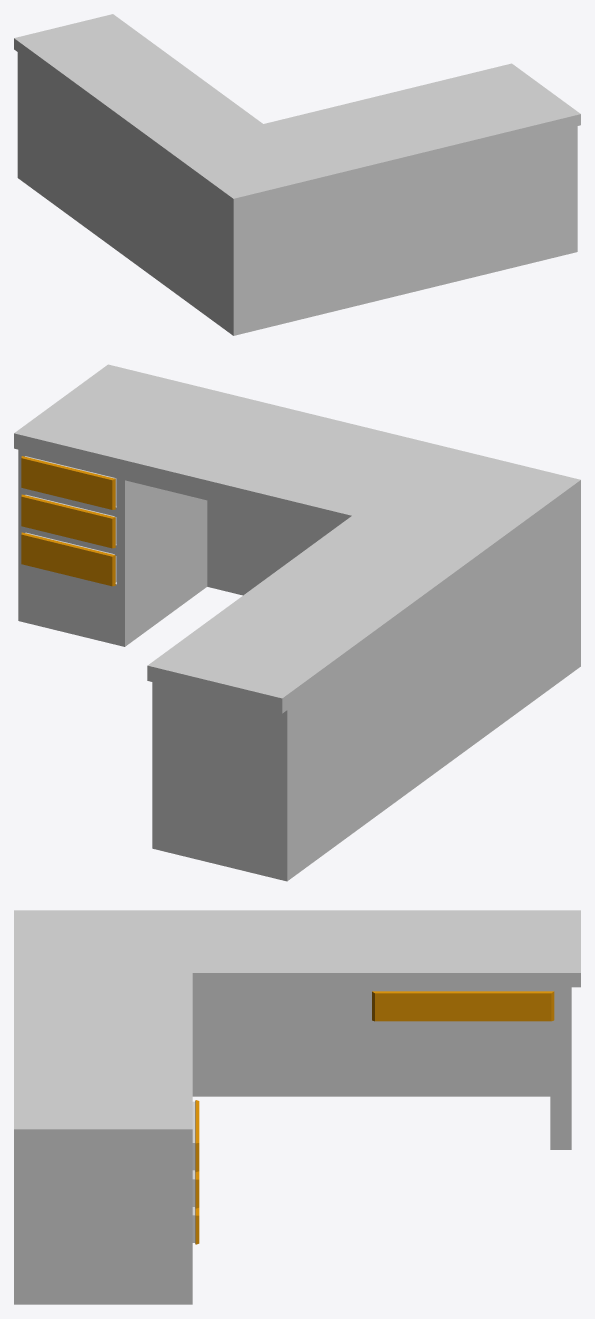
The model's file is DeskB.fbx.
3 views of the same model, one above another, from view 1: azimuth 30°, elevation 25°; view 2: azimuth 150°, elevation 25°; view 3: azimuth 270°, elevation 25° (orthographic). The views are drawn at different scales.
Visible parts, largest first — view 1: DeskB; view 2: DeskB, Small Drawer3.B, Small Drawer2.B, Small Drawer.B; view 3: DeskB, Long Drawer.B, Small Drawer.B.
Boxes of the visible parts, bbox=[...] form: DeskB: bbox=[14, 14, 580, 335]; DeskB: bbox=[14, 364, 580, 881]; Small Drawer3.B: bbox=[21, 532, 116, 586]; Small Drawer2.B: bbox=[21, 494, 116, 548]; Small Drawer.B: bbox=[21, 456, 116, 509]; DeskB: bbox=[14, 910, 580, 1304]; Long Drawer.B: bbox=[372, 991, 554, 1021]; Small Drawer.B: bbox=[192, 1100, 199, 1171].
Bounding box in the file's own units: 253 × 95.59 × 277.
